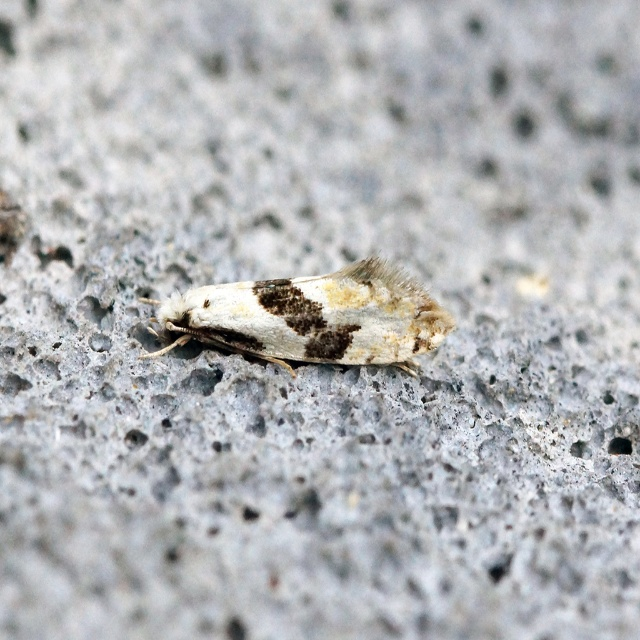Moths and butterflies: (140, 254, 459, 381)
